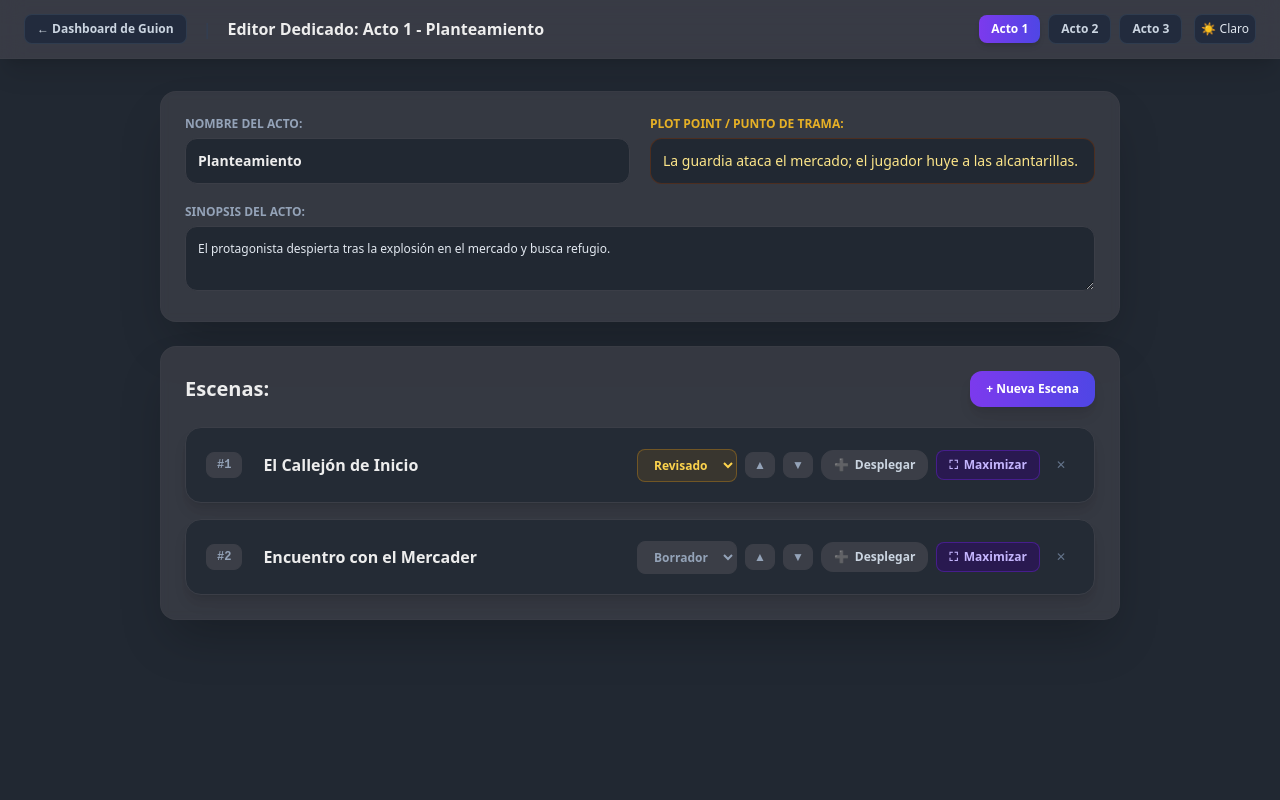
GuionStudio App & Unified Script Dashboard › allows adding a scene and editing scene details inside EditorActo
Expected: the heading "Editor Dedicado: Acto 1 - Planteamiento" is shown, 228,17 -> 544,41
Click the button "+ Nueva Escena".
click(1033, 389)  # box 970,371 -> 1095,407
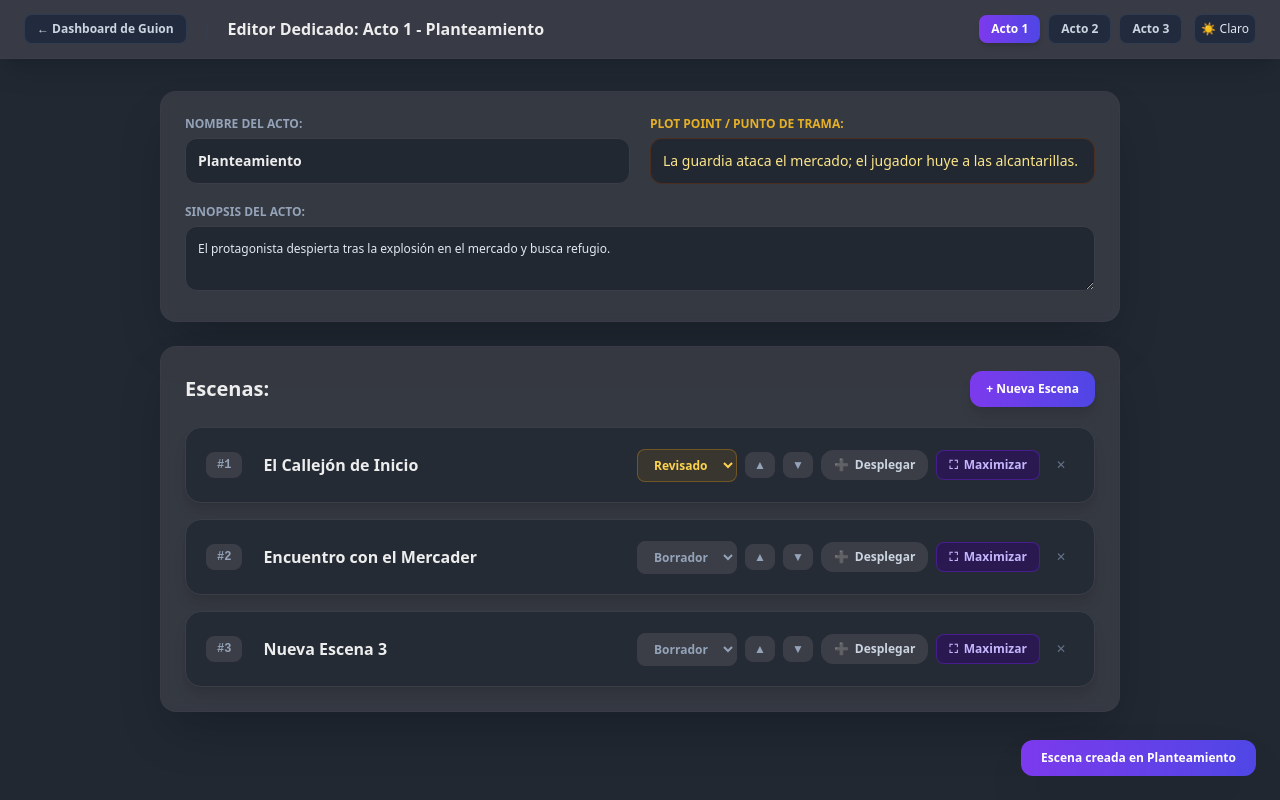
Expected: the 5th field showing "Nueva Escena 3" is shown, 254,632 -> 625,666
